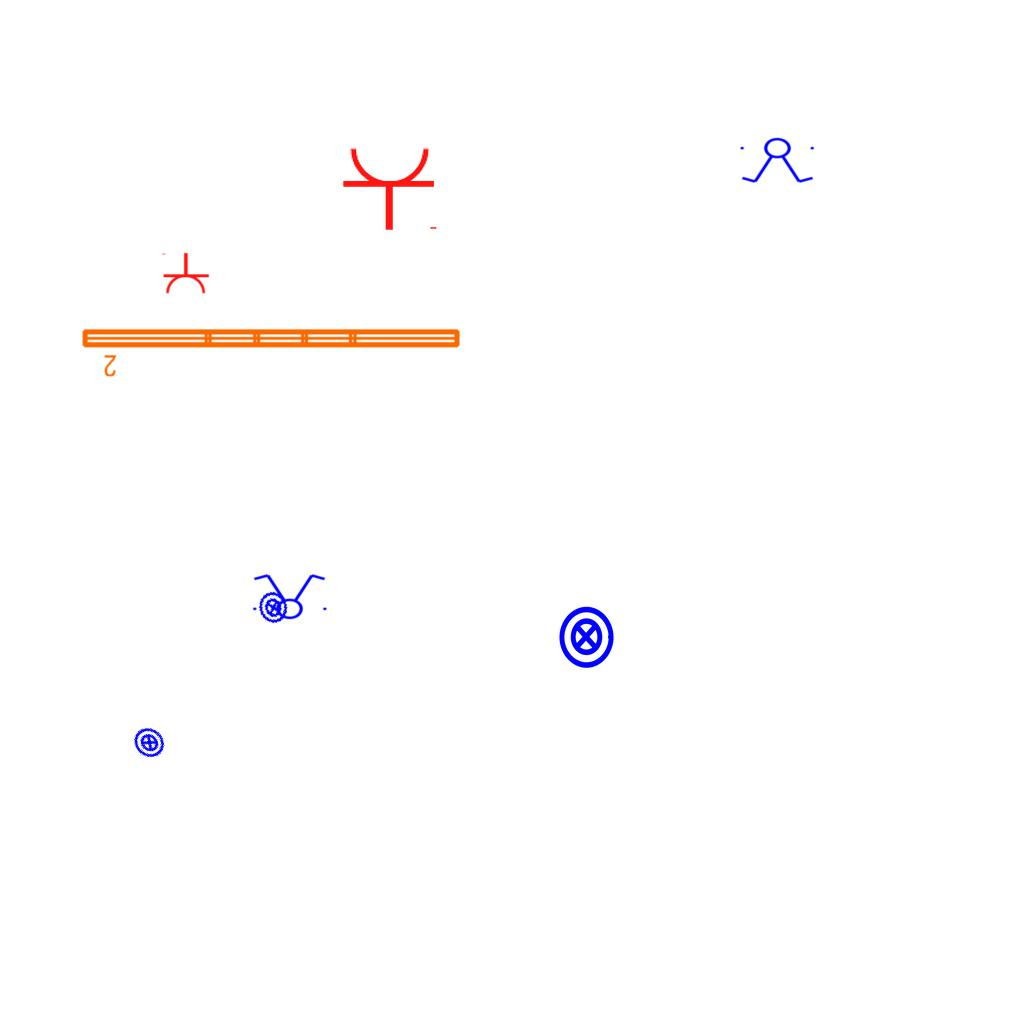Ambulanz_Pendelleuchte_LED: (78, 323, 465, 379)
Schukosteckdose_einfach: (341, 145, 441, 232), (160, 252, 210, 295)
Serienschalter: (247, 572, 331, 620), (736, 137, 820, 185)
Taster_beleuchtet: (553, 604, 619, 670), (126, 719, 173, 766), (253, 587, 294, 628)
